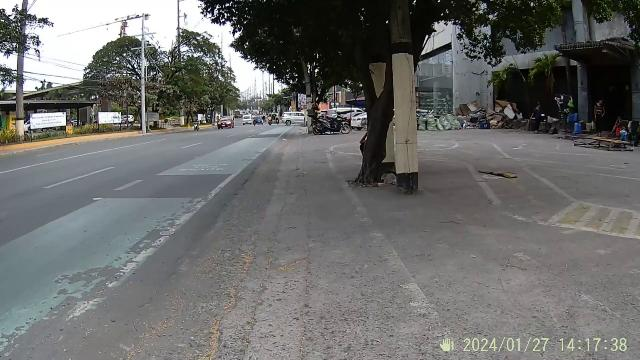utility_post: (352, 5, 438, 205)
